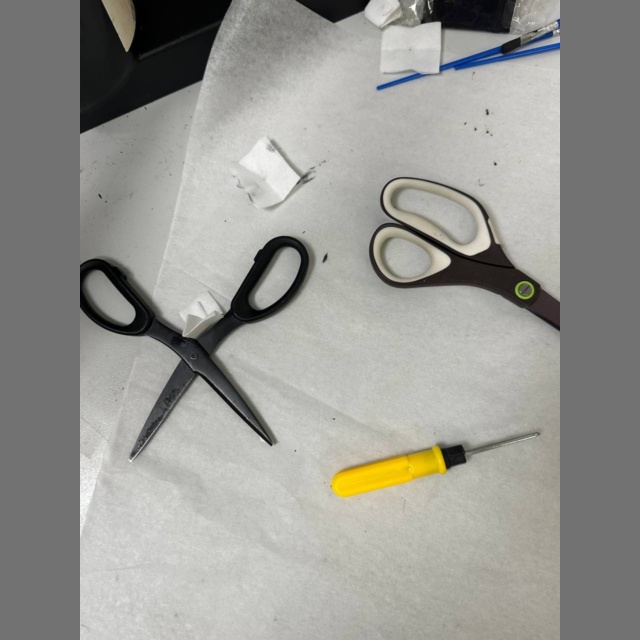scissor: (80, 236, 309, 461), (370, 178, 560, 328)
screwdriver: (331, 432, 540, 497)
